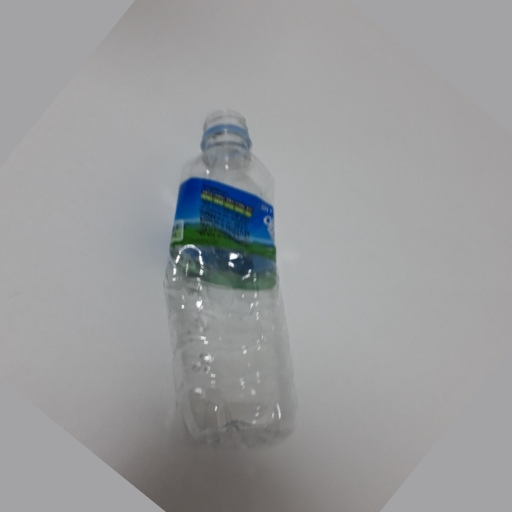Plastic_0: (163, 110, 299, 446)
